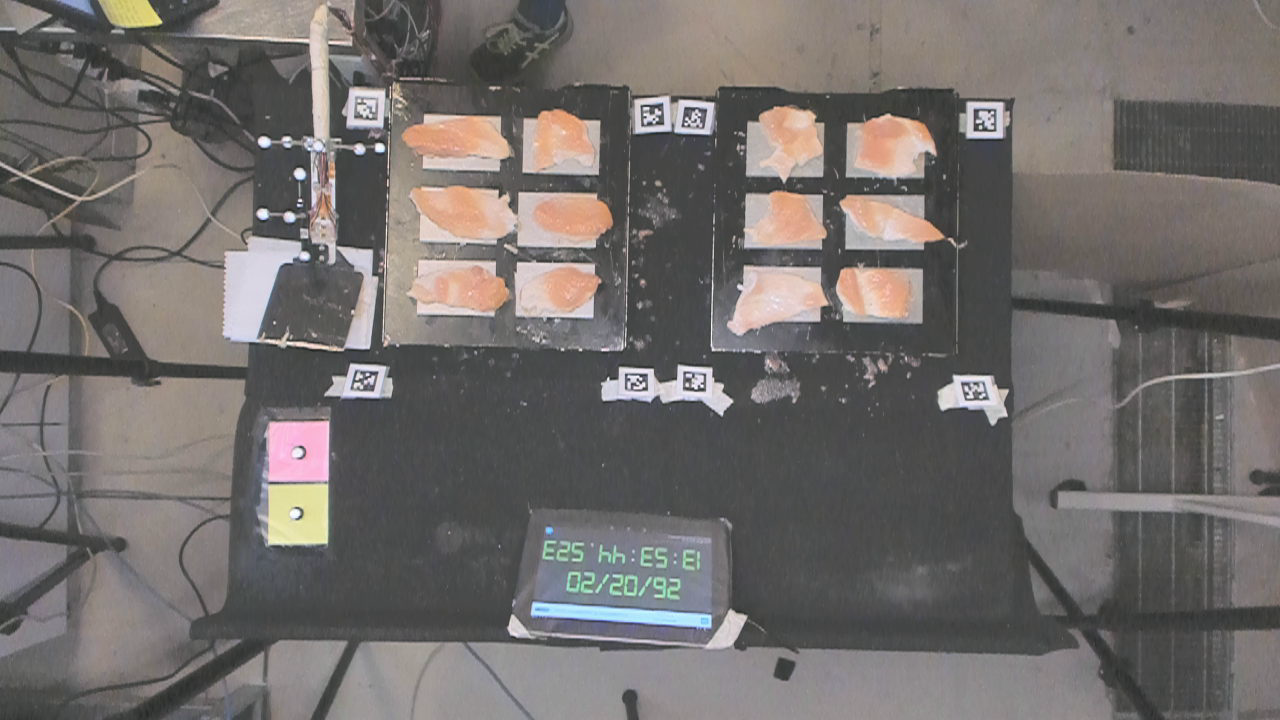chicken: (726, 264, 833, 338), (398, 180, 514, 237), (842, 195, 950, 249), (855, 110, 936, 180), (757, 98, 822, 180), (749, 190, 829, 250), (408, 260, 510, 307), (404, 119, 517, 158), (522, 267, 611, 315), (837, 262, 910, 320), (531, 192, 616, 239), (537, 105, 597, 168)
marker: (270, 420, 328, 480)
